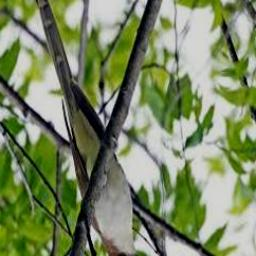Cuckoo: (38, 0, 149, 256)
